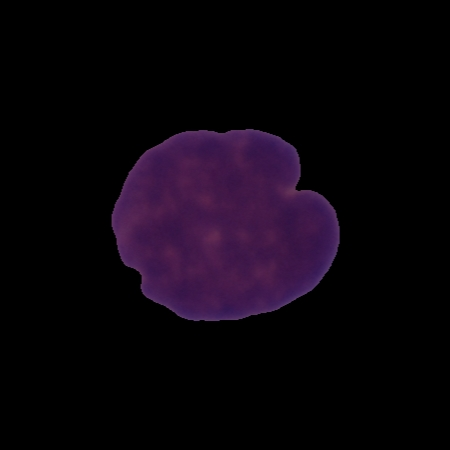ALL: (108, 124, 344, 325)
